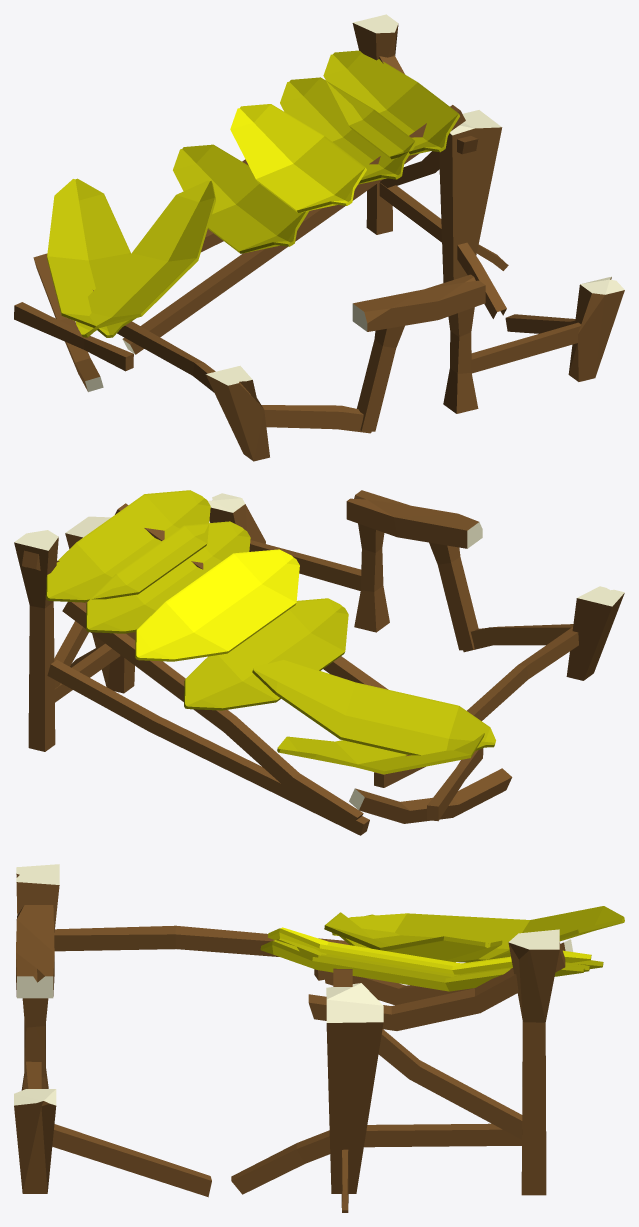
File: Wood_storage_1.fbx
The picture shows the model from 3 angles, top to bottom: view 1: azimuth 30°, elevation 25°; view 2: azimuth 150°, elevation 25°; view 3: azimuth 270°, elevation 25°; orthographic projection. The views are drawn at different scales.
Visible parts, largest first — view 1: Cube.016; view 2: Cube.016; view 3: Cube.016.
Part boxes in pixels (x1,y1,x2,y2): Cube.016: [14, 14, 624, 461]; Cube.016: [14, 490, 624, 835]; Cube.016: [14, 864, 624, 1212].
Size of the model in its own units: 6 by 6 by 3.
